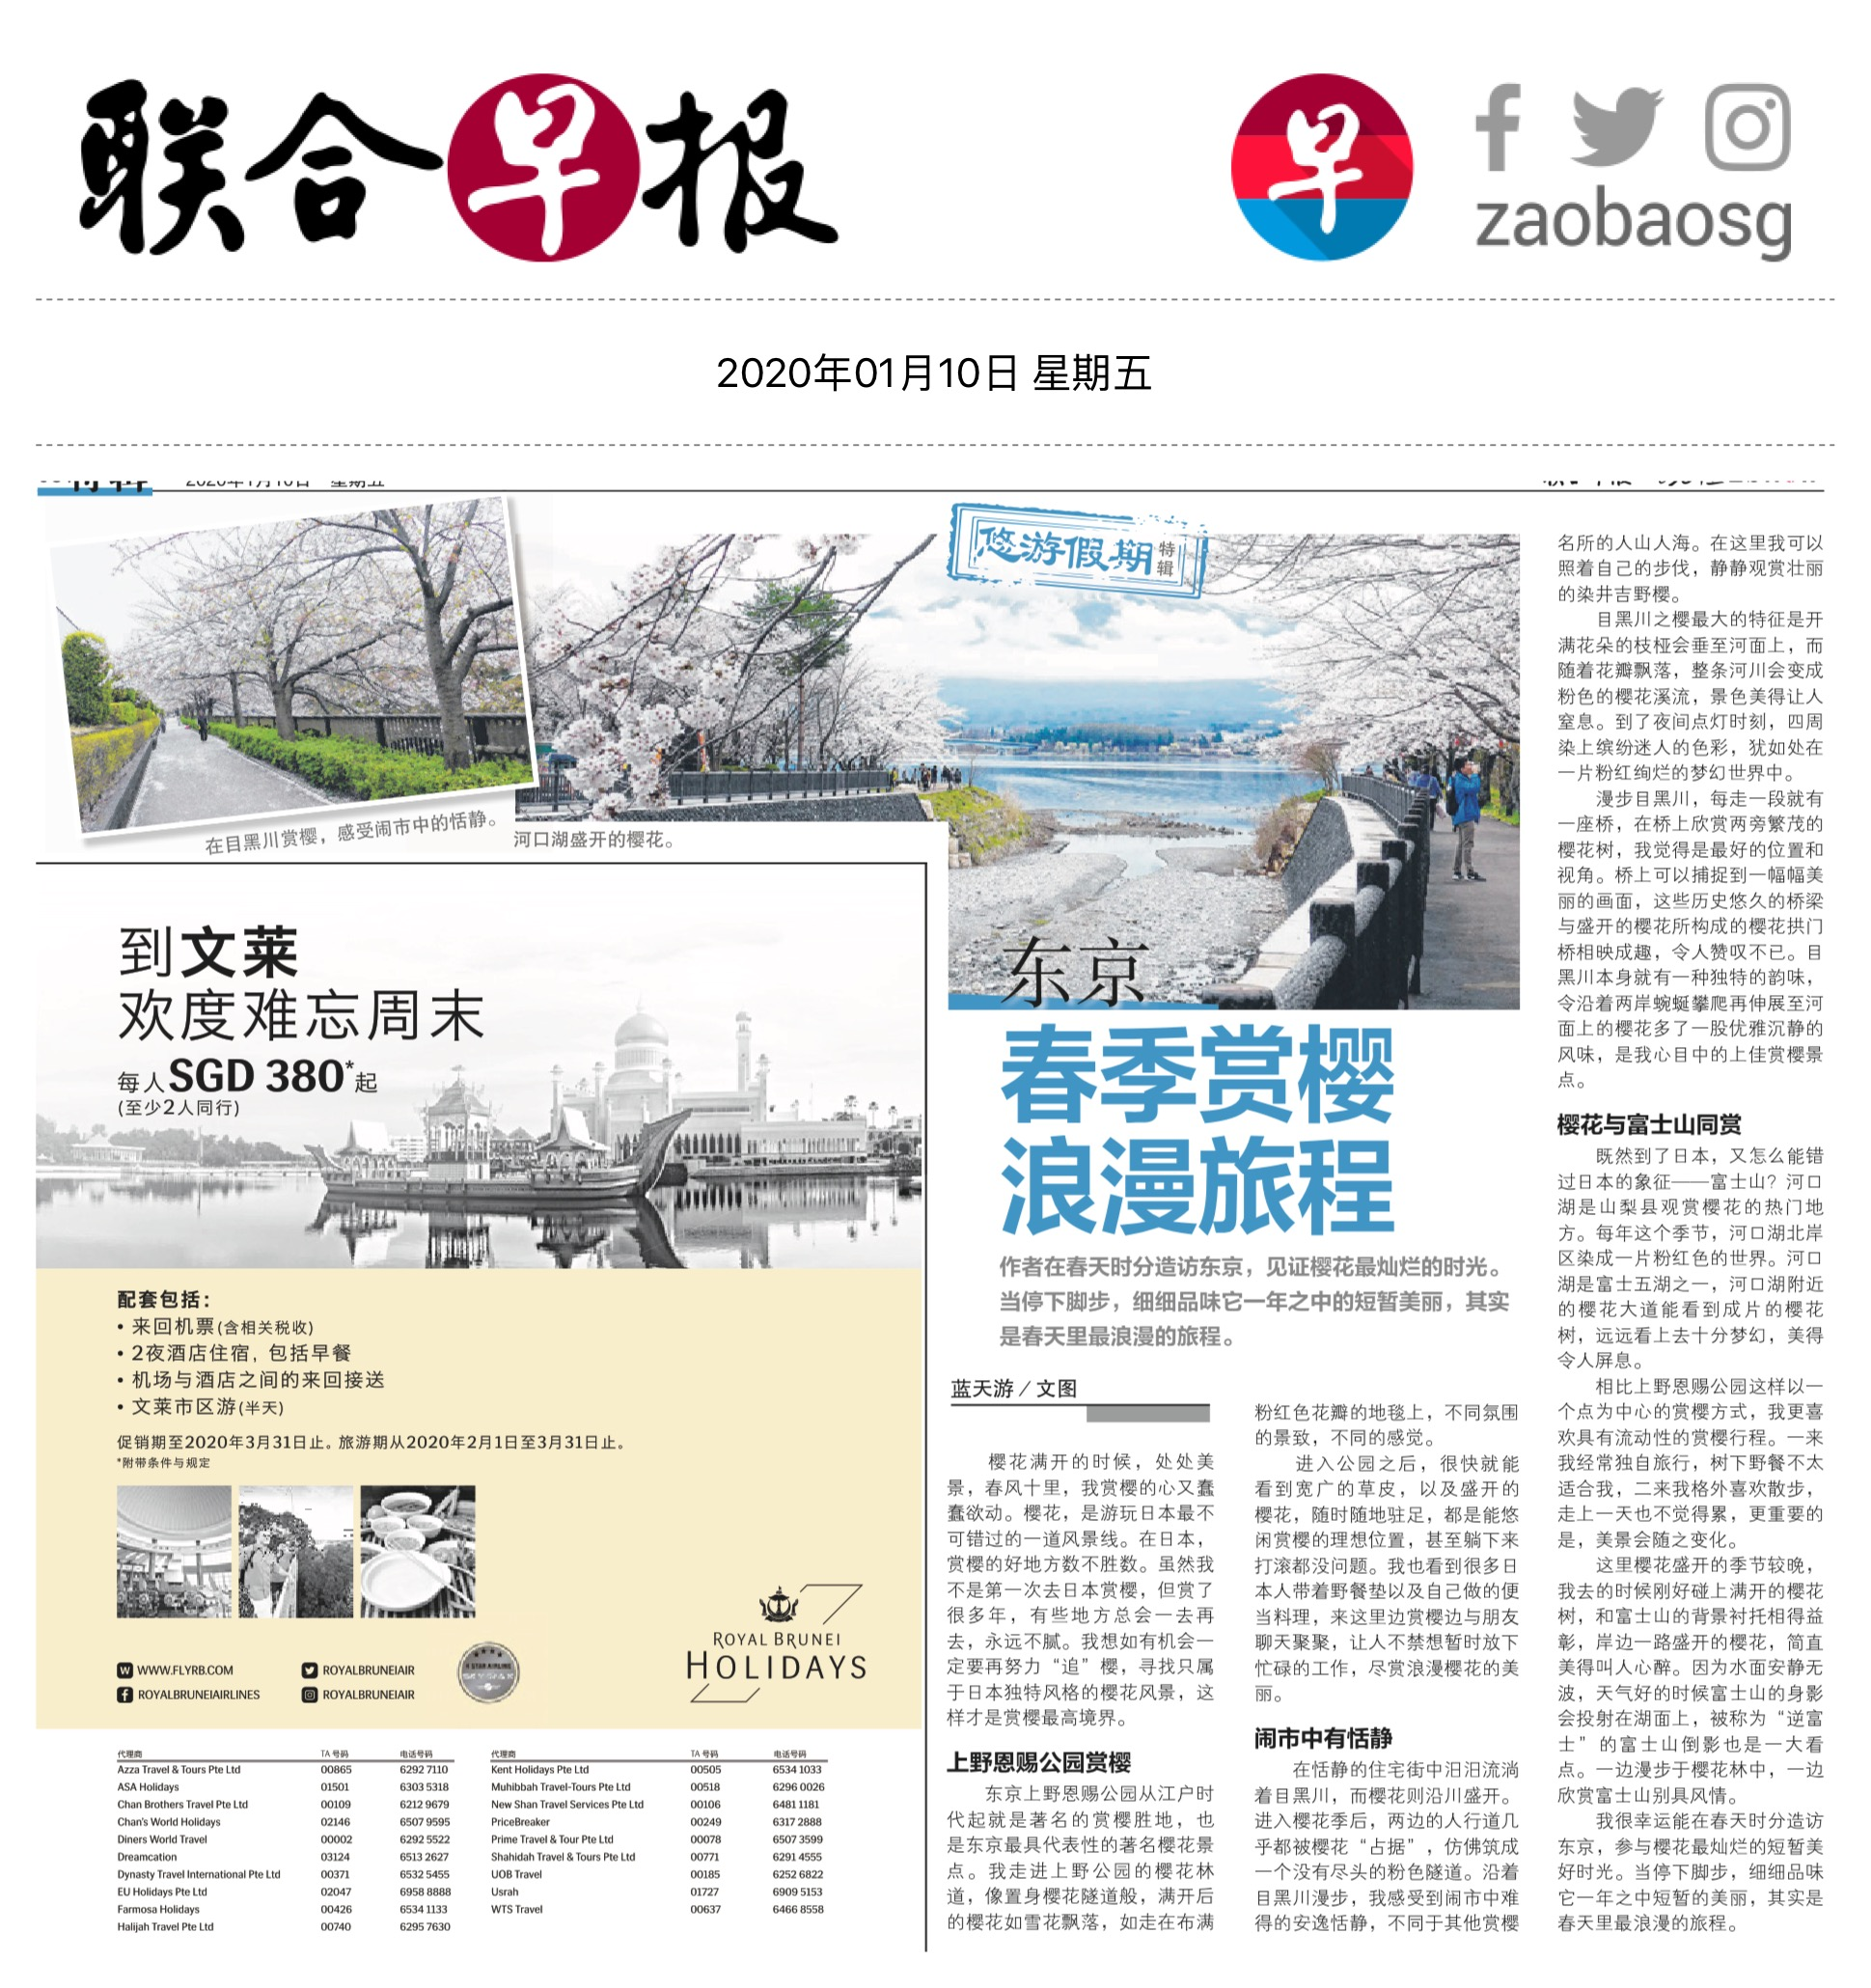heading: (995, 1020, 1416, 1239)
